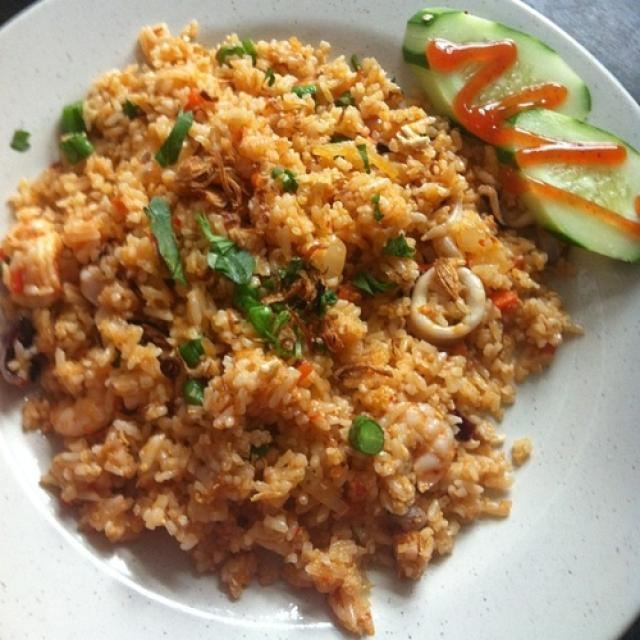米饭主食: (16, 18, 606, 608)
